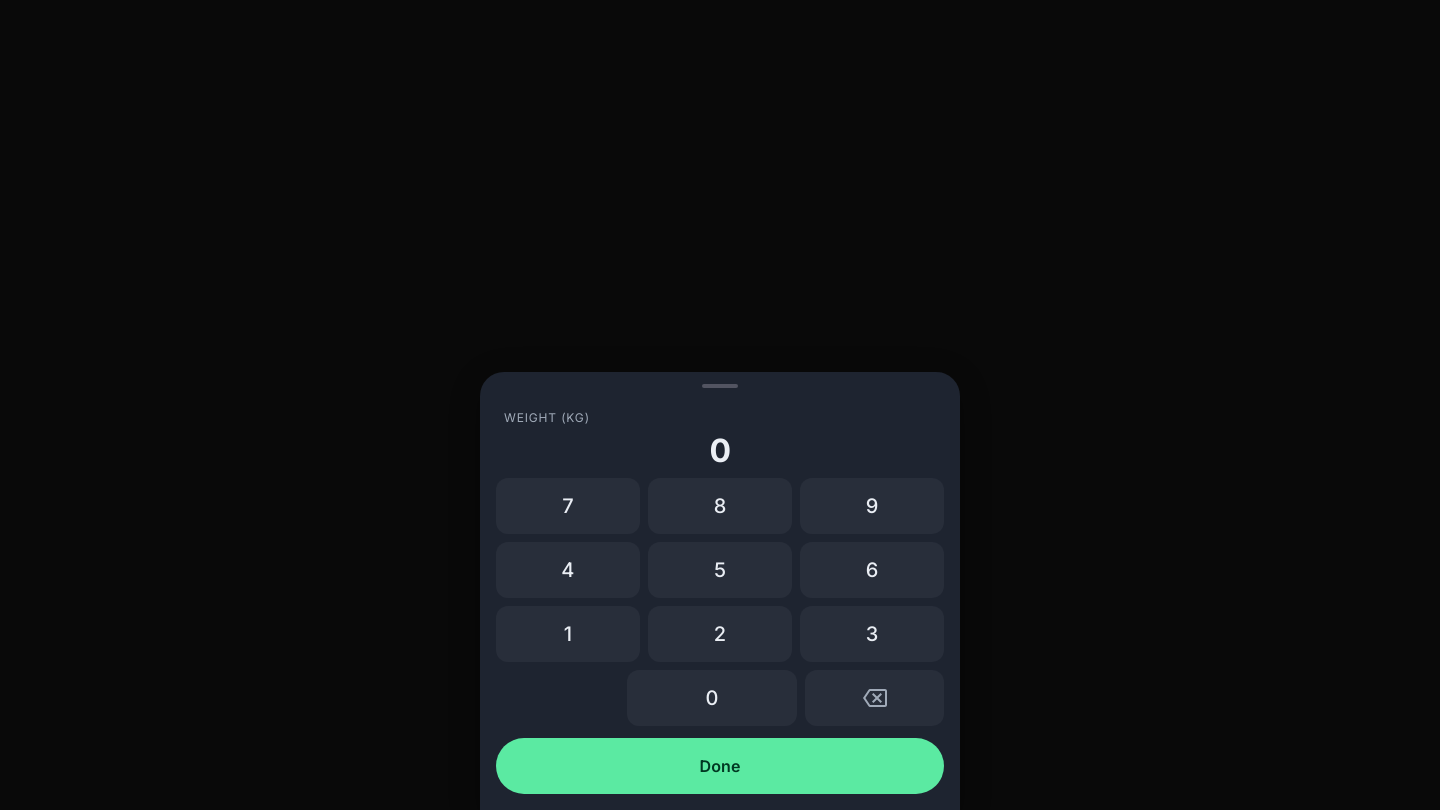
Test: NumpadBottomSheet › backspace on single digit results in 0
Click the button "5". click: coordinates (720, 570)
box: [648,542,792,598]
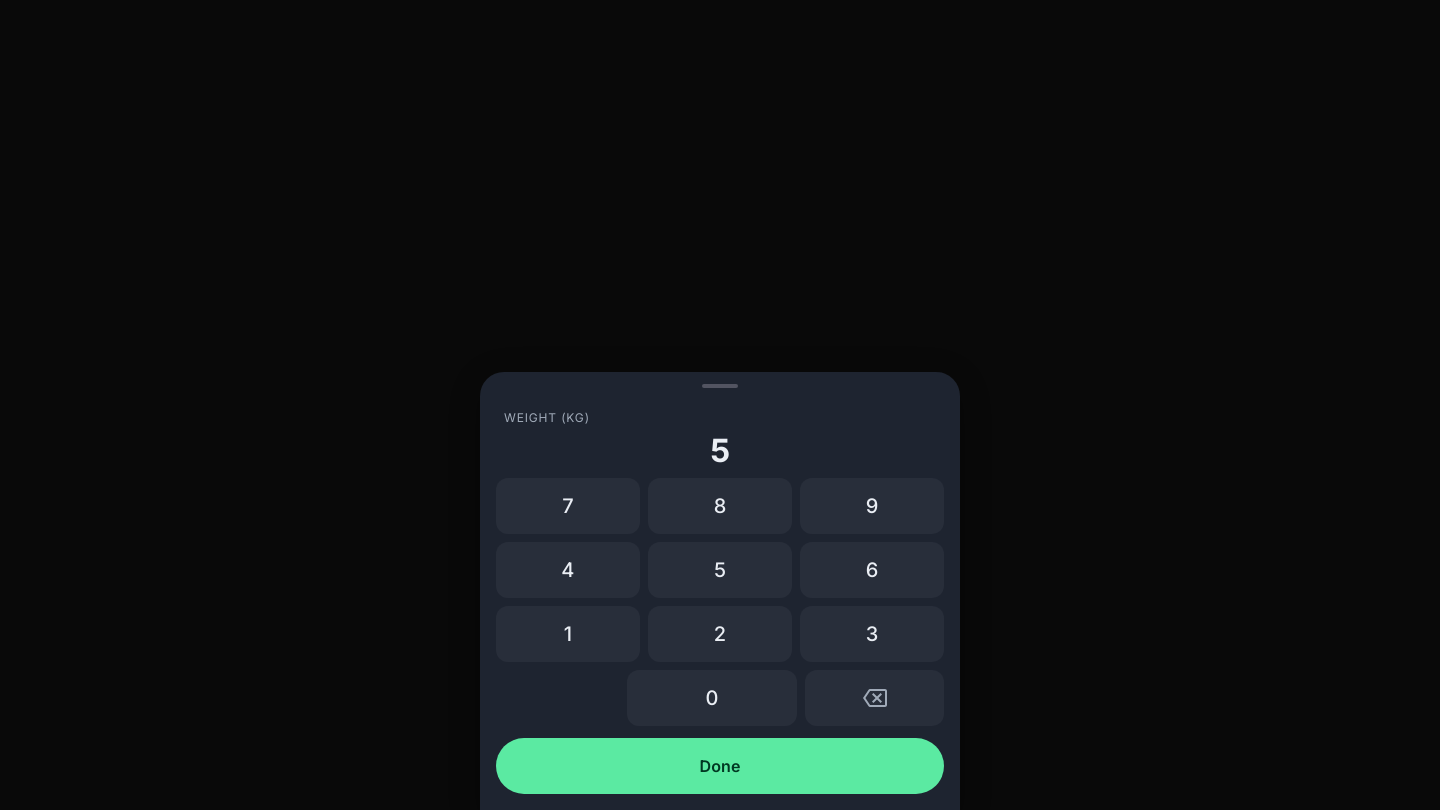
Click the button named "Backspace". click: coordinates (875, 698)
box: [805,670,944,726]
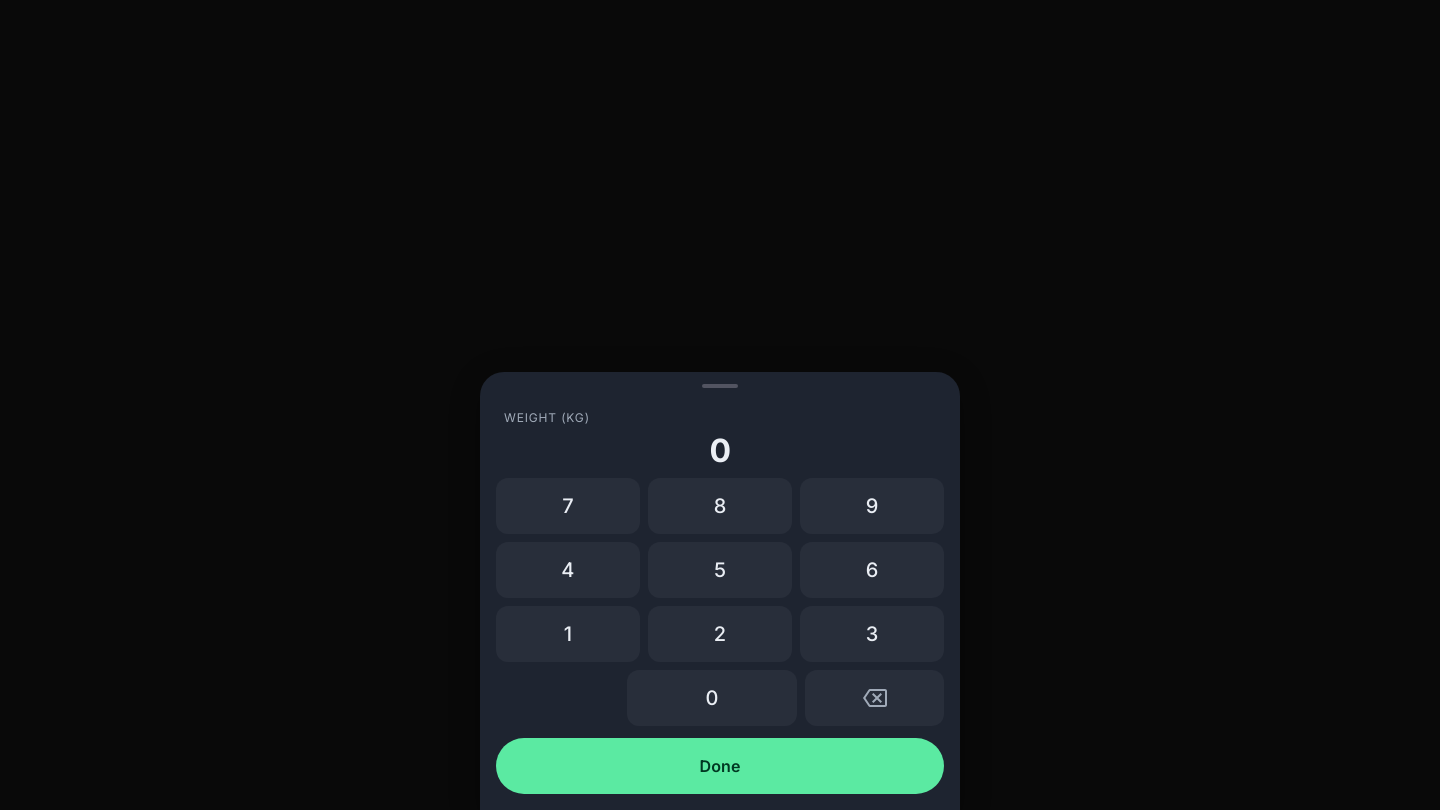
expect the heading reads "0": met, box [710,431,730,470]
